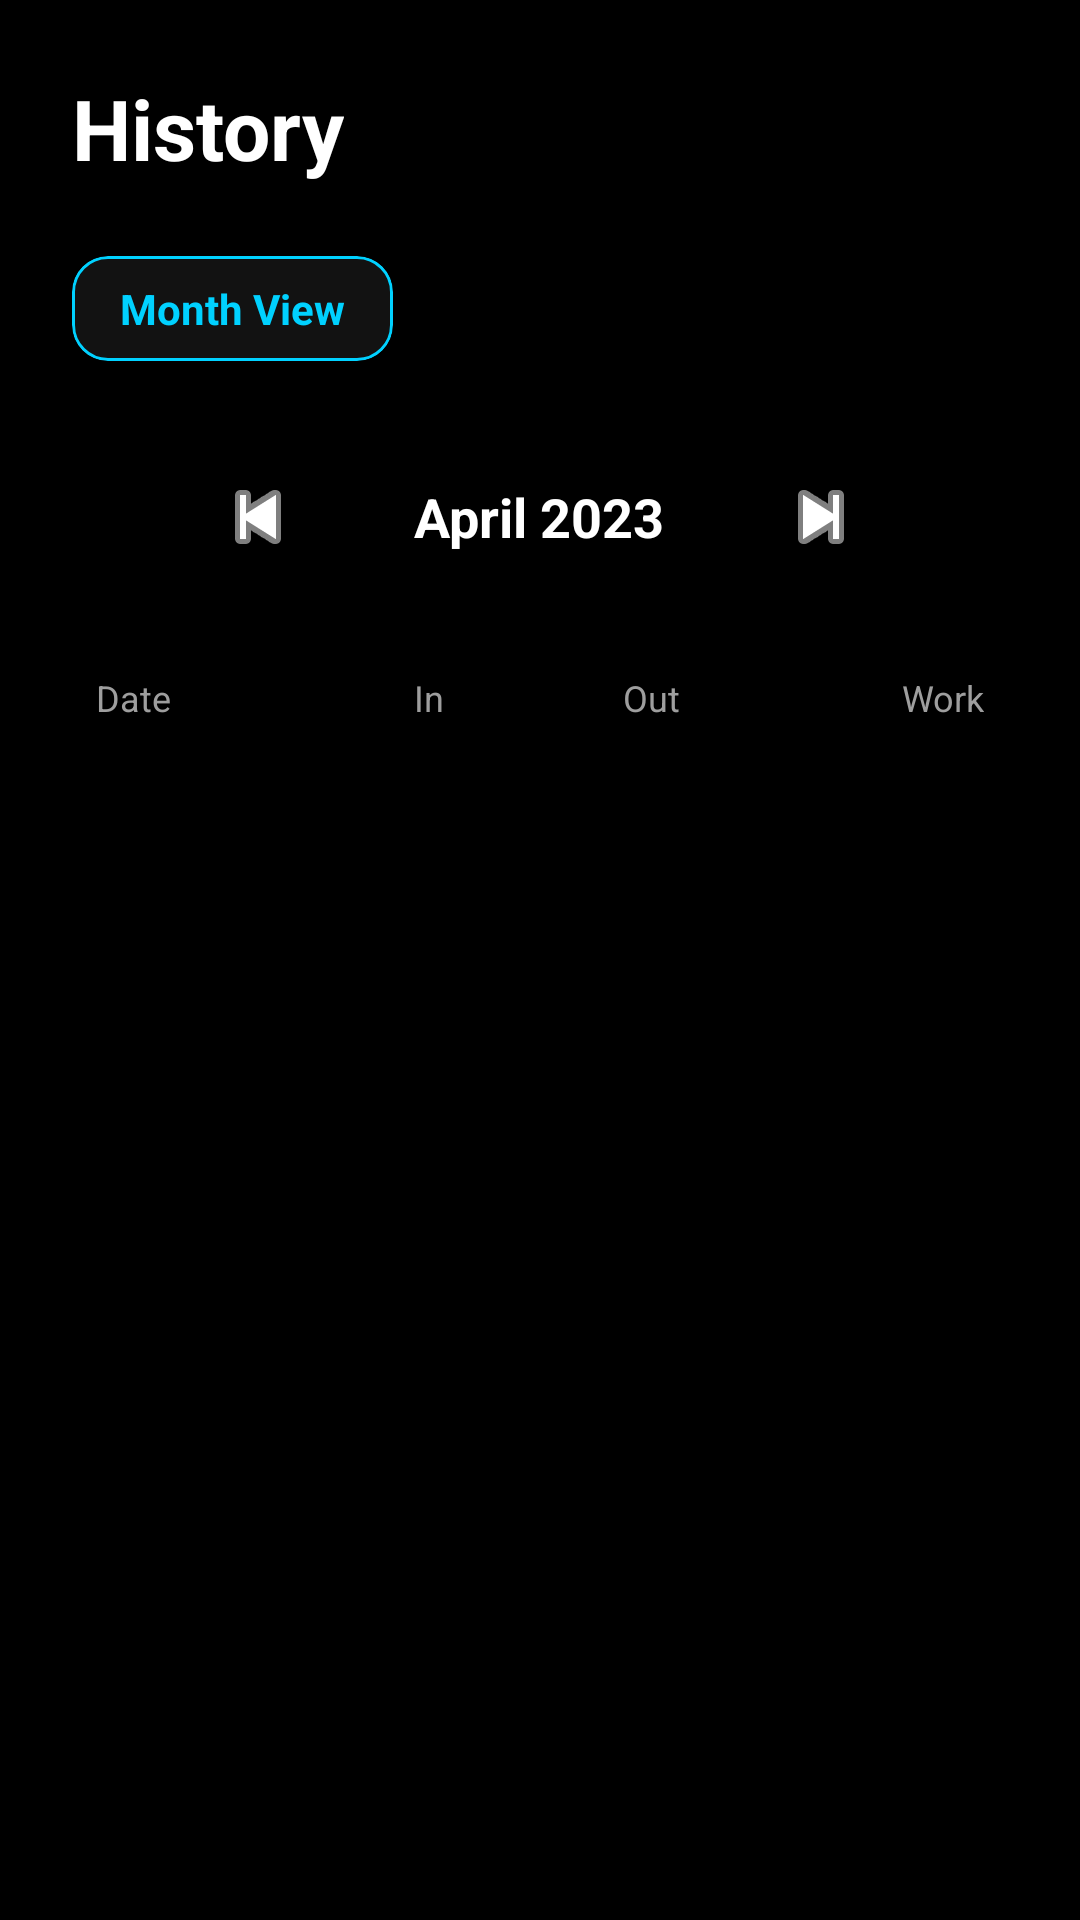

Icons on this 1080w x 1920h Android screen, each with the point to tap as point (x, y):
next: point (821, 517)
previous: point (258, 517)
